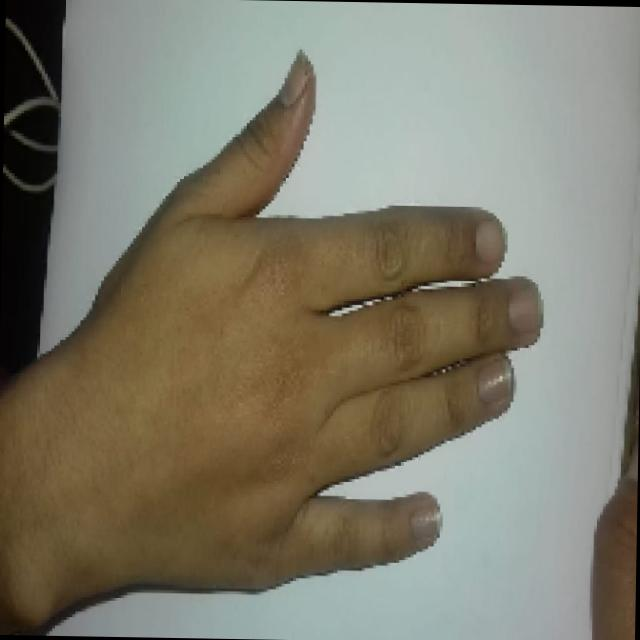Nail: (278, 50, 312, 106), (476, 356, 515, 402), (509, 285, 543, 331), (475, 218, 505, 264), (410, 506, 441, 540)
